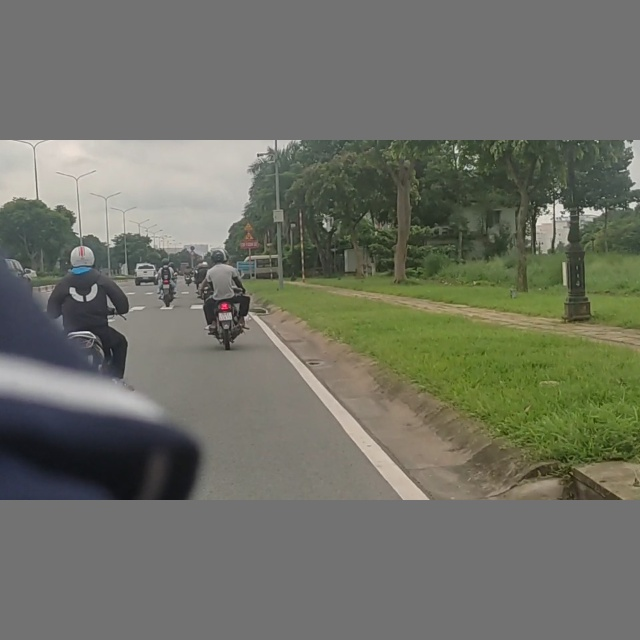P.130: (190, 246, 196, 251)
W.245a: (244, 222, 253, 230)
W.246a: (244, 232, 255, 240)
